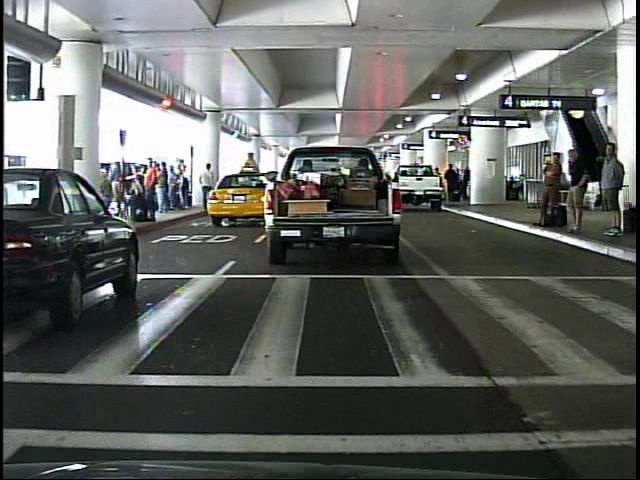person: (598, 139, 630, 244), (564, 143, 593, 238), (536, 146, 566, 233), (141, 157, 161, 225), (198, 161, 217, 214)
